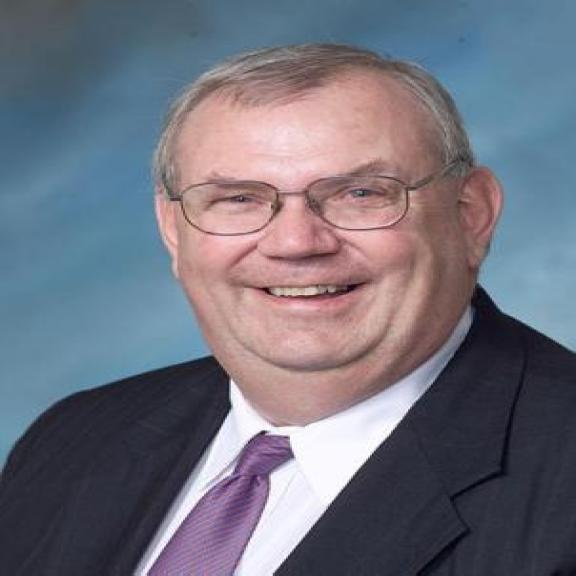face: (153, 78, 508, 381)
